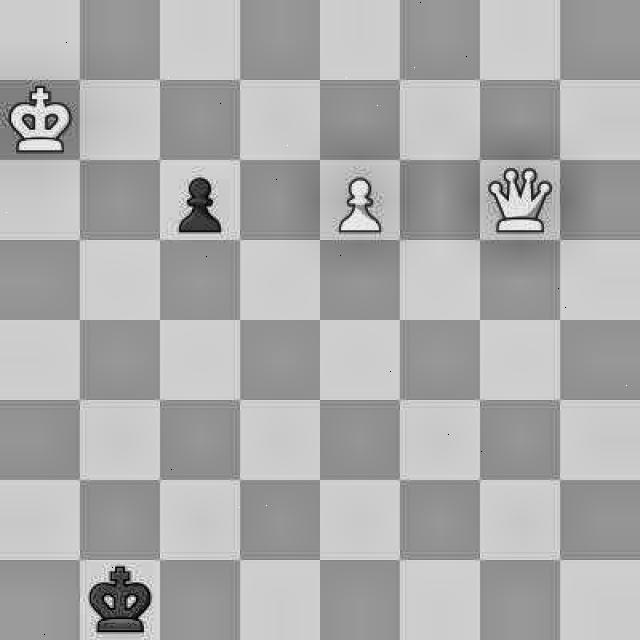black king: (78, 556, 160, 636)
black pawn: (168, 162, 238, 240)
white king: (6, 83, 74, 157)
white pawn: (321, 162, 398, 238)
white queen: (488, 165, 558, 234)
